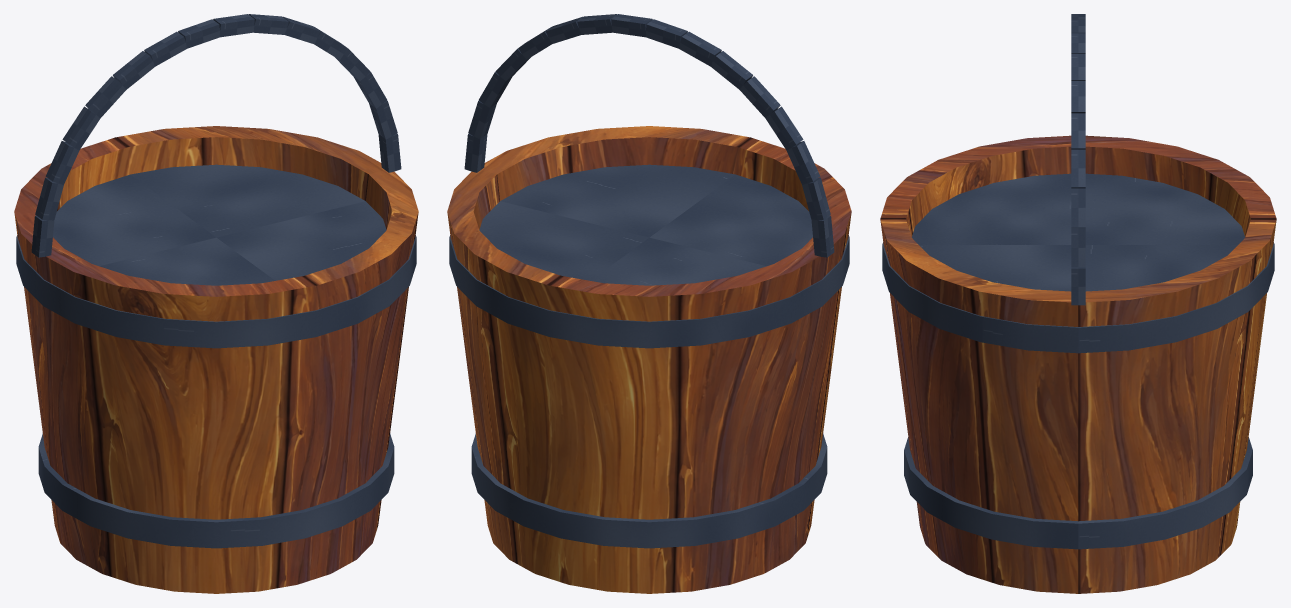
Rendered from Bucket.fbx.
The picture shows the model from 3 angles, left to right: view 1: azimuth 30°, elevation 25°; view 2: azimuth 150°, elevation 25°; view 3: azimuth 270°, elevation 25°; orthographic projection. The views are drawn at different scales.
Parts seen in each view (by area): view 1: Bucket.001; view 2: Bucket.001; view 3: Bucket.001.
Boxes of the visible parts, left/top/right/bottom form: Bucket.001: left=14, top=14, right=418, bottom=593; Bucket.001: left=447, top=14, right=851, bottom=593; Bucket.001: left=880, top=14, right=1276, bottom=593.
Bounding box in the file's own units: 72.49 × 96.24 × 70.
Materials: 2 (2 with a texture image).
